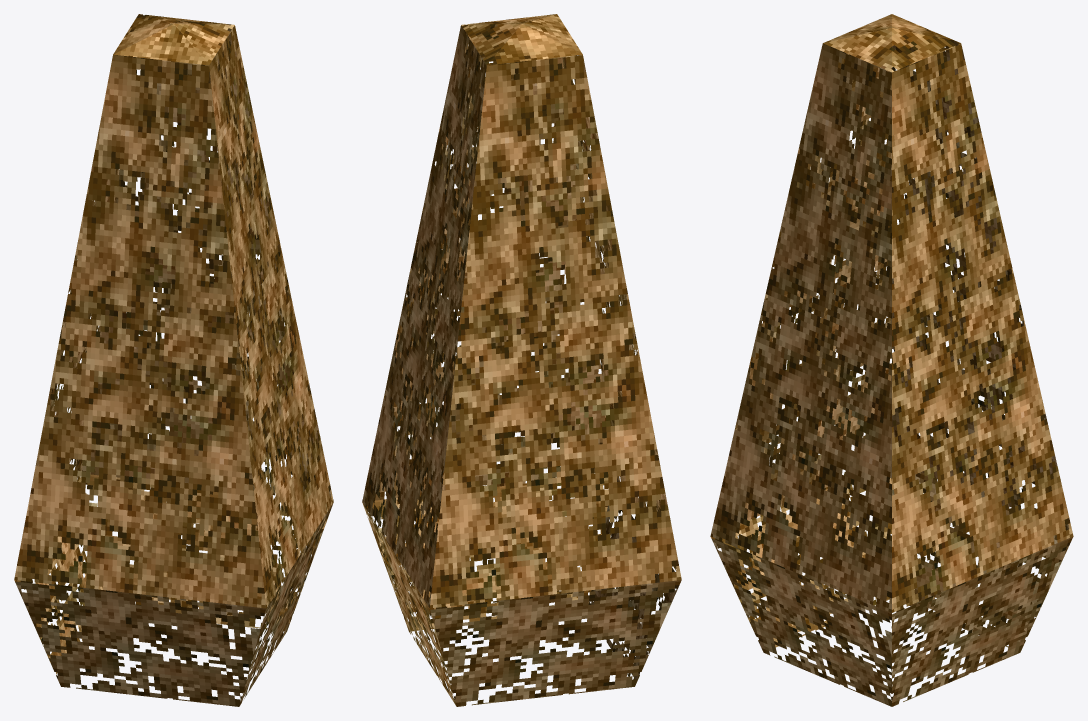
Rendered from bush_end_tall_autumn.glb.
3 views of the same model, side by side, from view 1: azimuth 30°, elevation 25°; view 2: azimuth 150°, elevation 25°; view 3: azimuth 270°, elevation 25° (orthographic).
Parts seen in each view (by area): view 1: bush_end_tall_autumn; view 2: bush_end_tall_autumn; view 3: bush_end_tall_autumn.
Boxes of the visible parts, bbox=[...] form: bush_end_tall_autumn: bbox=[14, 14, 333, 706]; bush_end_tall_autumn: bbox=[362, 14, 681, 706]; bush_end_tall_autumn: bbox=[710, 14, 1073, 706].
Size of the model in its own units: 1.39 by 2.63 by 1.39.
Materials: 1 (1 with a texture image).
